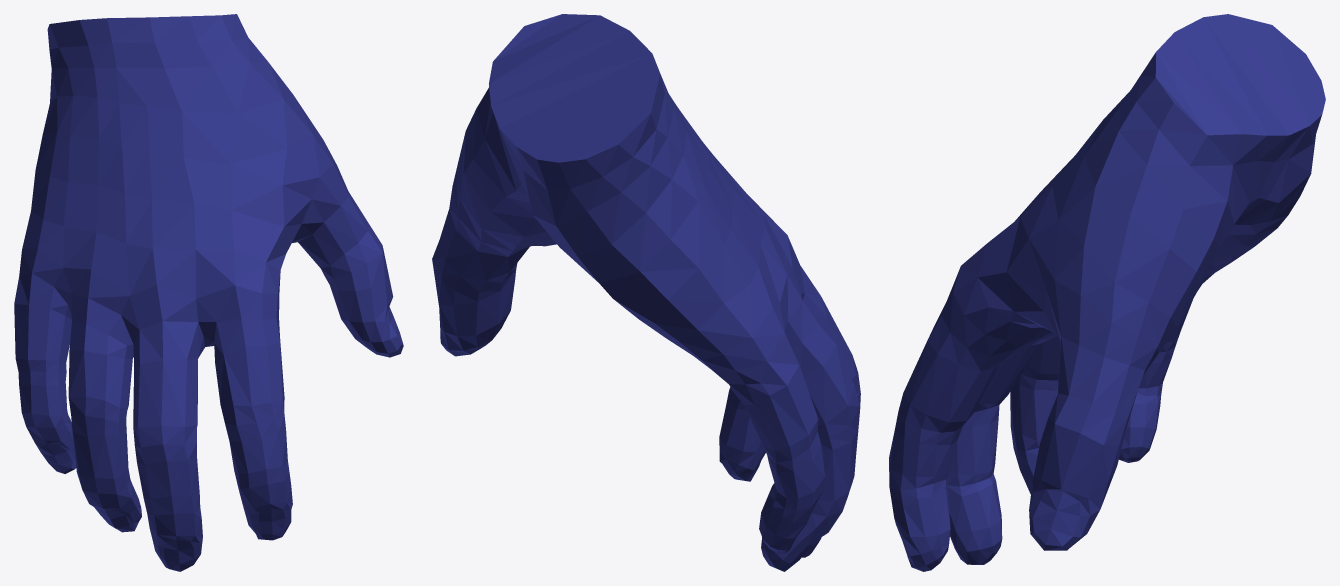
The picture shows the model from 3 angles, left to right: view 1: azimuth 30°, elevation 25°; view 2: azimuth 150°, elevation 25°; view 3: azimuth 270°, elevation 25°; orthographic projection. The views are drawn at different scales.
Size of the model in its own units: 0.1269 by 0.1694 by 0.1188.
